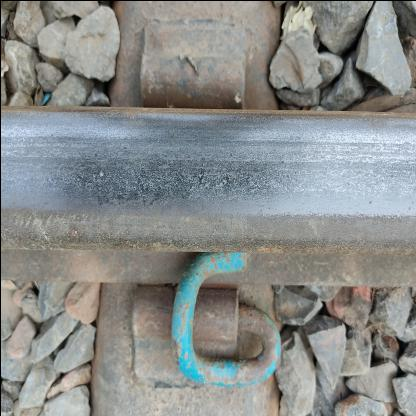Defective 1: (96, 0, 298, 148)
Non Defective 1: (110, 245, 294, 408)
